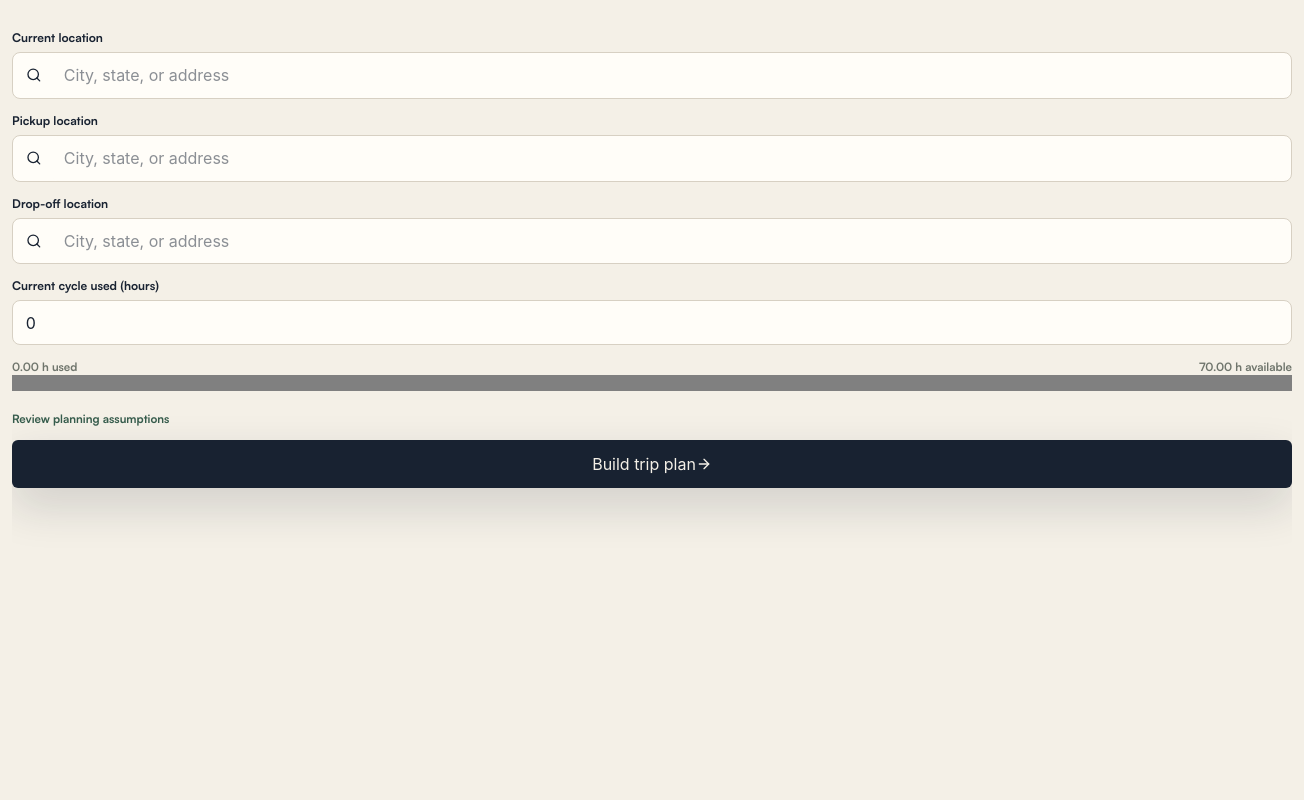
Scenario: TripForm › does not coerce a cleared cycle field to zero
Clear the number field labelled "Current cycle used (hours)" at (652, 323), box top-left (12, 300), bottom-right (1292, 345)
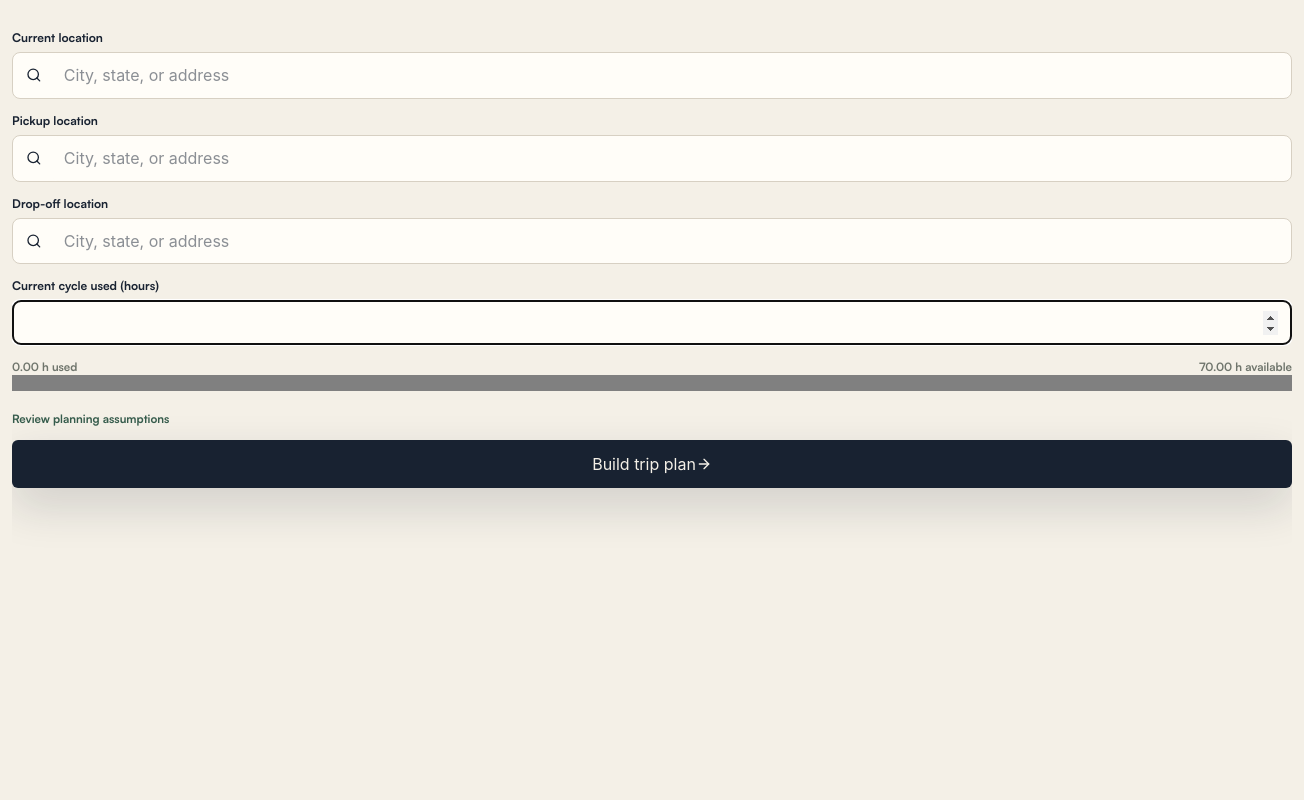
Click the button "Build trip plan" at (652, 464), box top-left (12, 440), bottom-right (1292, 488)
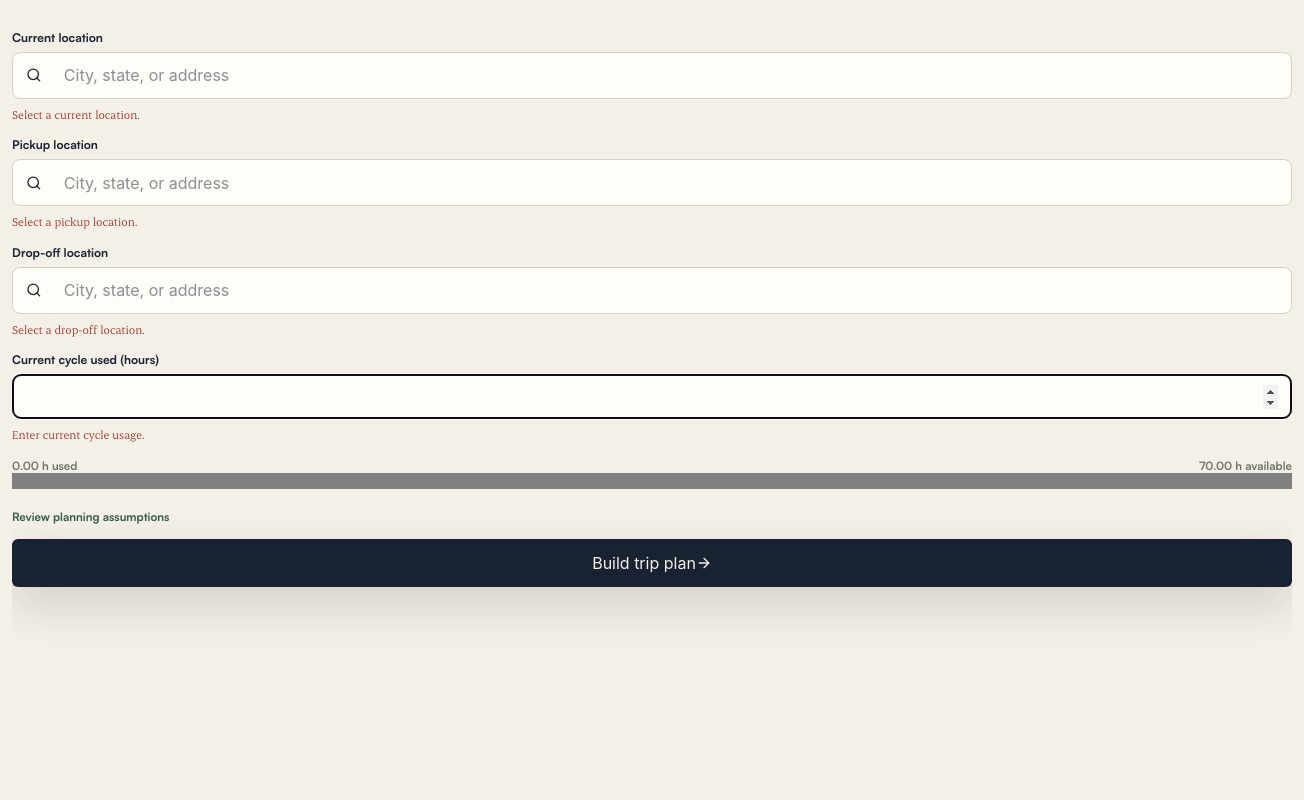
Expected: the text "Enter current cycle usage." is shown, top-left (12, 427), bottom-right (145, 442)
